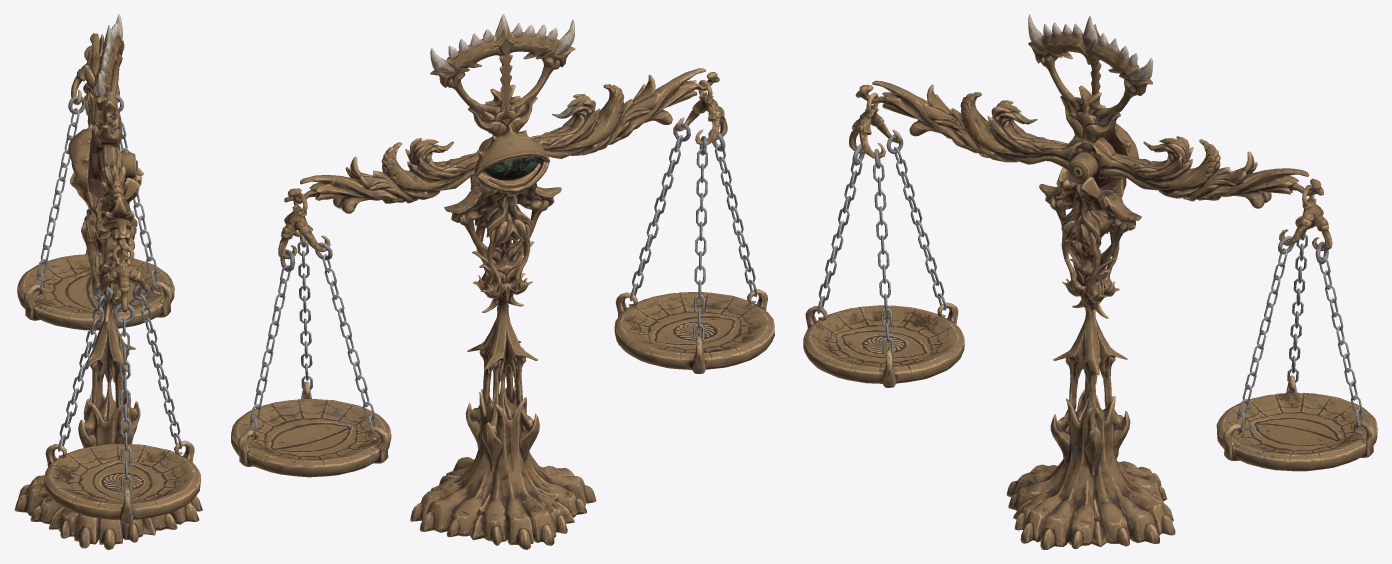
File: Scale 4.fbx
The picture shows the model from 3 angles, left to right: view 1: azimuth 30°, elevation 25°; view 2: azimuth 150°, elevation 25°; view 3: azimuth 270°, elevation 25°; orthographic projection. The views are drawn at different scales.
Parts seen in each view (by area): view 1: Scale, LeftDish, RightDish, Arms, LeftChains, RightChains, HandLeft, LeftRings, HandRight, RightRings; view 2: Scale, Arms, LeftDish, RightDish, LeftChains, RightChains, HandLeft, HandRight, ArrowMesh, Eye; view 3: Scale, Arms, LeftDish, RightDish, LeftChains, RightChains, HandLeft, HandRight.
Boxes of the visible parts, <box> form: Scale: <box>14,14,202,549</box>; LeftDish: <box>44,440,200,523</box>; RightDish: <box>17,249,174,330</box>; Arms: <box>83,33,137,256</box>; LeftChains: <box>57,294,181,493</box>; RightChains: <box>35,108,158,291</box>; HandLeft: <box>98,245,147,312</box>; LeftRings: <box>94,284,149,324</box>; HandRight: <box>71,45,119,105</box>; RightRings: <box>68,95,123,114</box>; Scale: <box>410,14,596,549</box>; Arms: <box>284,68,719,213</box>; LeftDish: <box>614,289,774,373</box>; RightDish: <box>231,381,391,477</box>; LeftChains: <box>630,135,757,342</box>; RightChains: <box>248,241,376,437</box>; HandLeft: <box>675,80,727,145</box>; HandRight: <box>278,193,330,259</box>; ArrowMesh: <box>490,27,520,135</box>; Eye: <box>483,156,538,180</box>; Scale: <box>1006,14,1175,549</box>; Arms: <box>855,80,1323,208</box>; LeftDish: <box>803,302,964,387</box>; RightDish: <box>1216,375,1377,471</box>; LeftChains: <box>817,147,946,356</box>; RightChains: <box>1236,234,1363,431</box>; HandLeft: <box>849,92,902,158</box>; HandRight: <box>1279,184,1332,250</box>.
Bounding box in the file's own units: 2.65 × 3.96 × 4.13.
